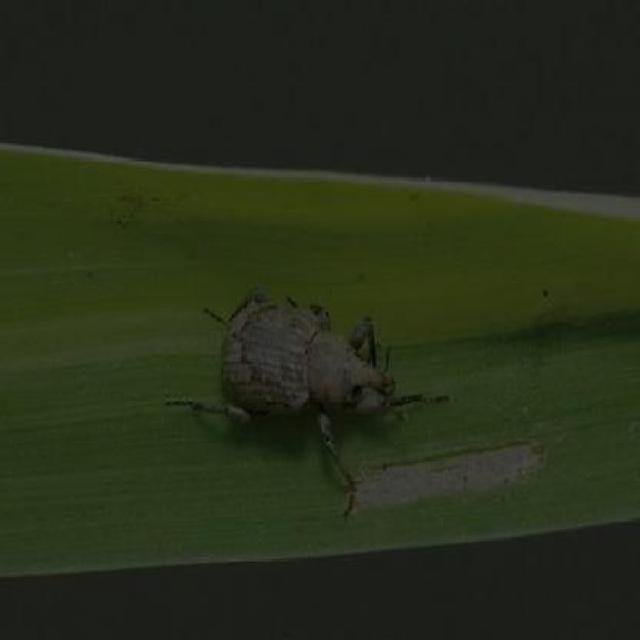rice-bug: (180, 284, 398, 447)
